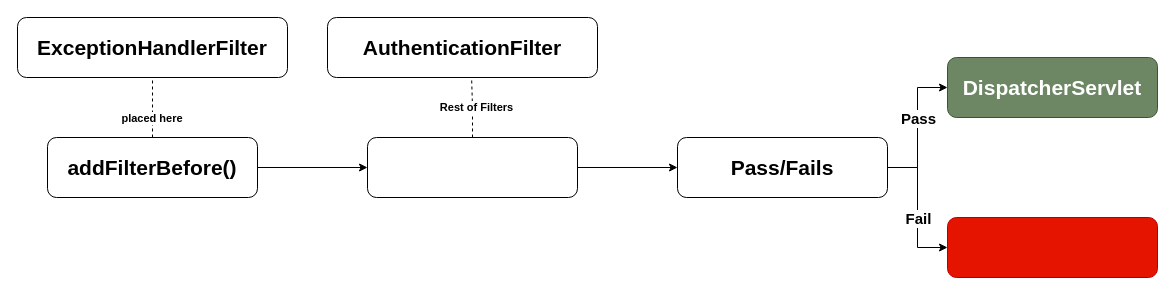
Image size: 1175x295. Some labels were removed from this diagram. Here are the shapes that lost their labels. From the top down, the box of each, then its label:
(366, 136, 578, 198): addFilter()
(946, 216, 1158, 278): Exception
